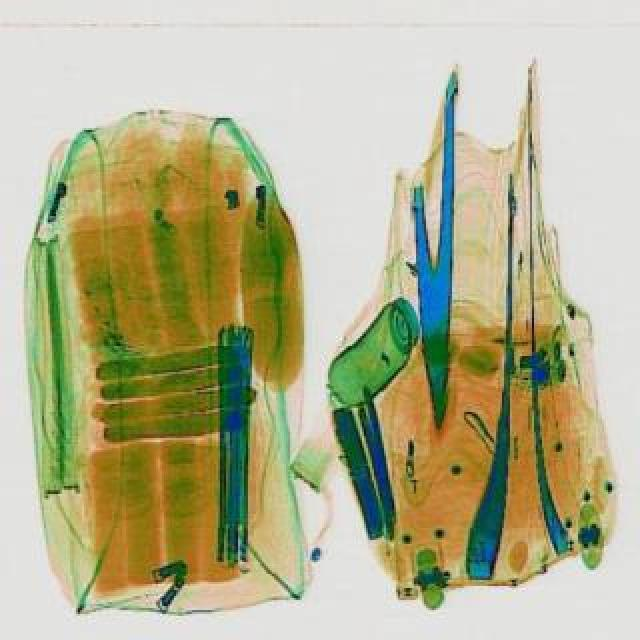knife: (402, 70, 470, 426)
